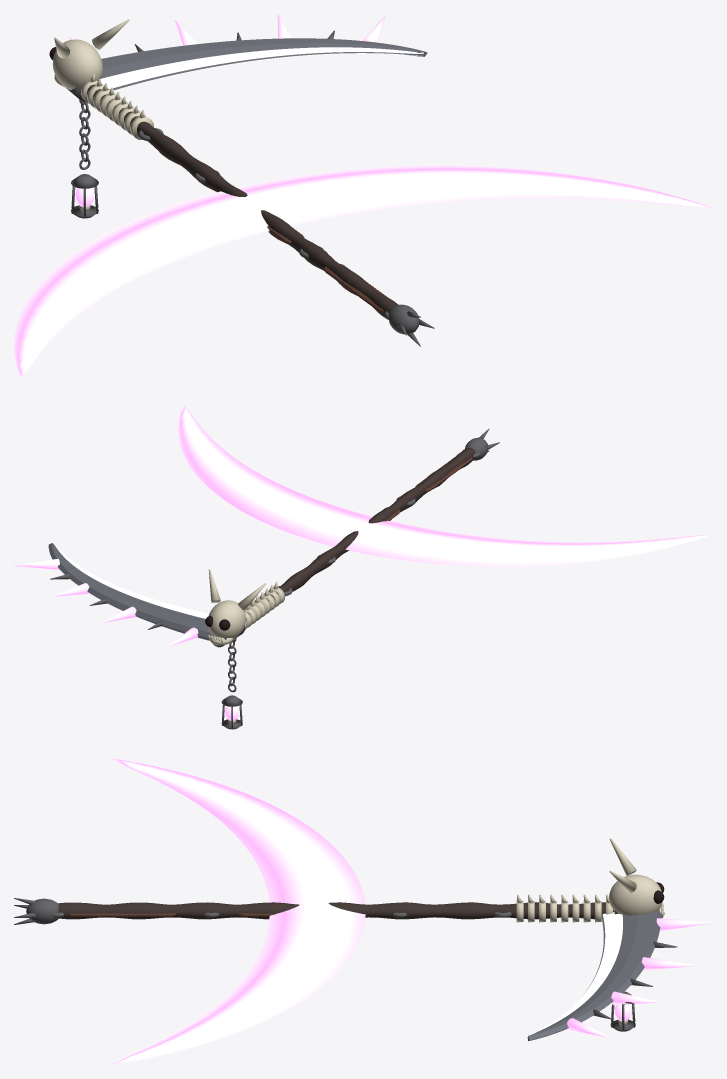
File: scythe.glb
3 views of the same model, one above another, from view 1: azimuth 30°, elevation 25°; view 2: azimuth 150°, elevation 25°; view 3: azimuth 270°, elevation 25° (orthographic). The views are drawn at different scales.
Parts seen in each view (by area): view 1: soul_wave, scythe; view 2: soul_wave, scythe; view 3: soul_wave, scythe.
Part boxes in pixels (x1=…): soul_wave: x1=14, y1=165, x2=712, y2=376; scythe: x1=49, y1=14, x2=434, y2=346; soul_wave: x1=178, y1=405, x2=712, y2=566; scythe: x1=14, y1=429, x2=499, y2=729; soul_wave: x1=111, y1=758, x2=365, y2=1064; scythe: x1=14, y1=838, x2=712, y2=1040.
Size of the model in its own units: 1.69 by 0.4475 by 1.63.
